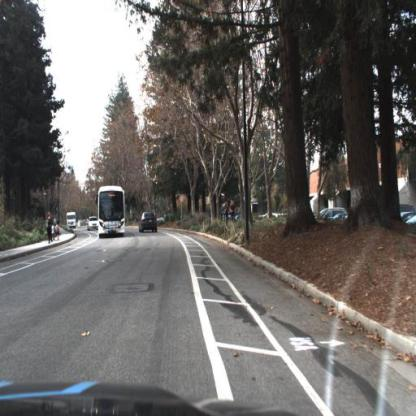car: (140, 212, 158, 235)
pedestrian: (48, 212, 54, 243), (49, 221, 54, 245), (56, 221, 61, 242), (46, 219, 50, 244), (233, 200, 237, 225)
truck: (98, 187, 126, 238), (68, 210, 77, 229)
